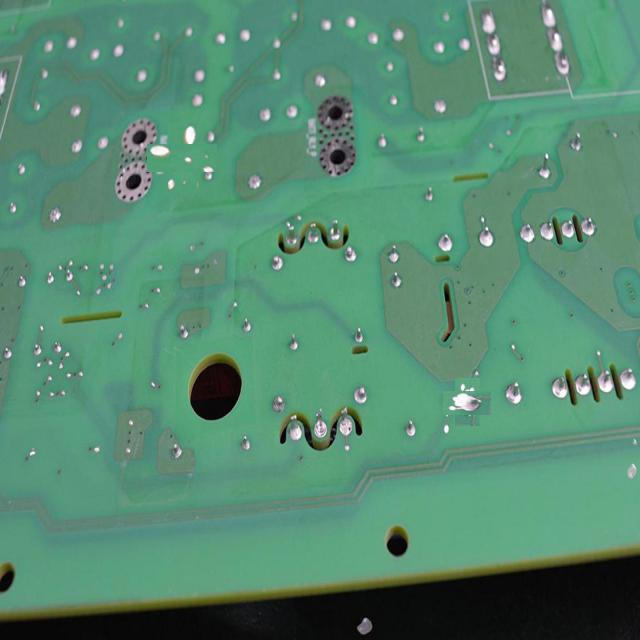spillover: (158, 133, 207, 183), (449, 384, 486, 421)
